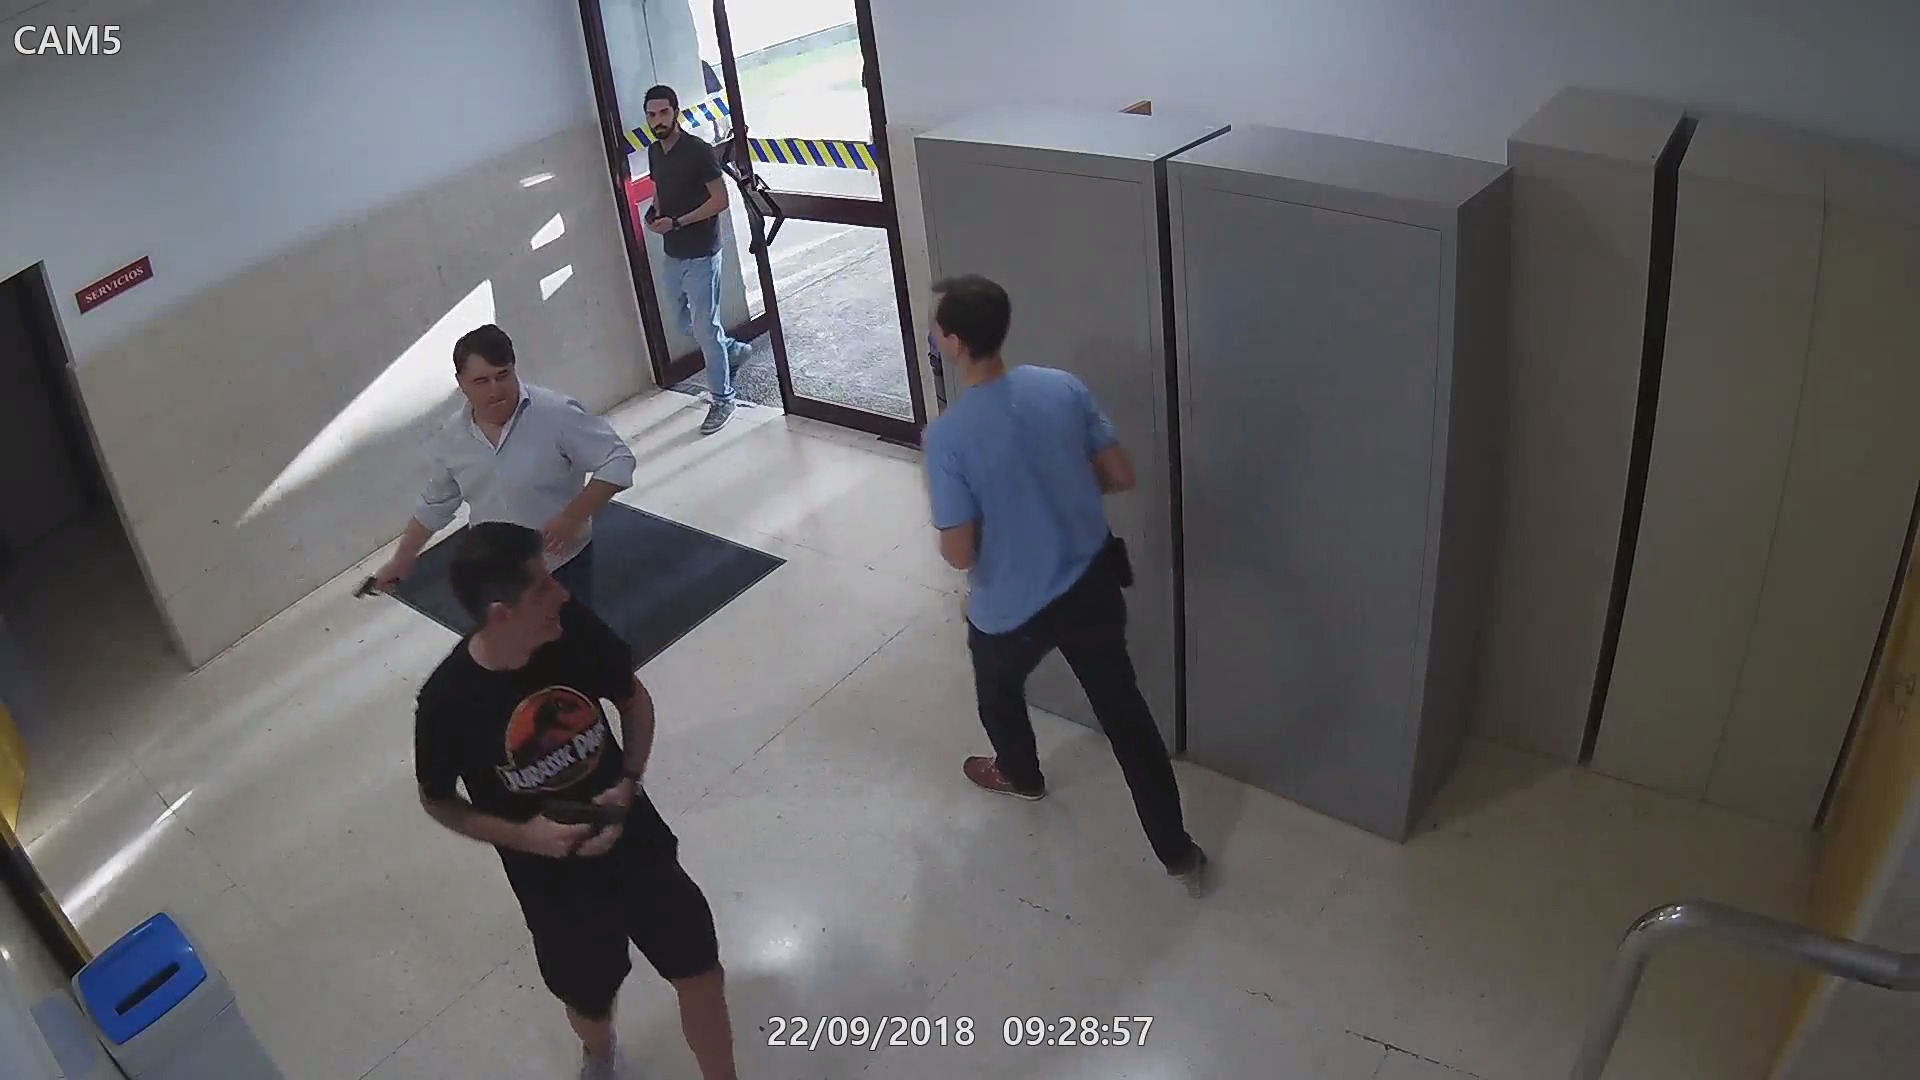Handgun: (531, 798, 634, 858), (351, 556, 419, 601), (638, 203, 665, 237)
